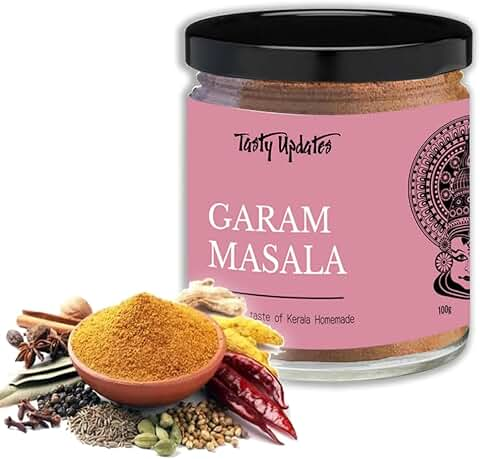Garamasala: (186, 21, 480, 377)
